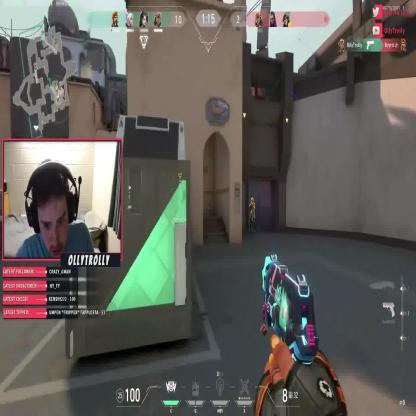enemy: (248, 197, 256, 235)
enemy_head: (251, 196, 254, 206)
